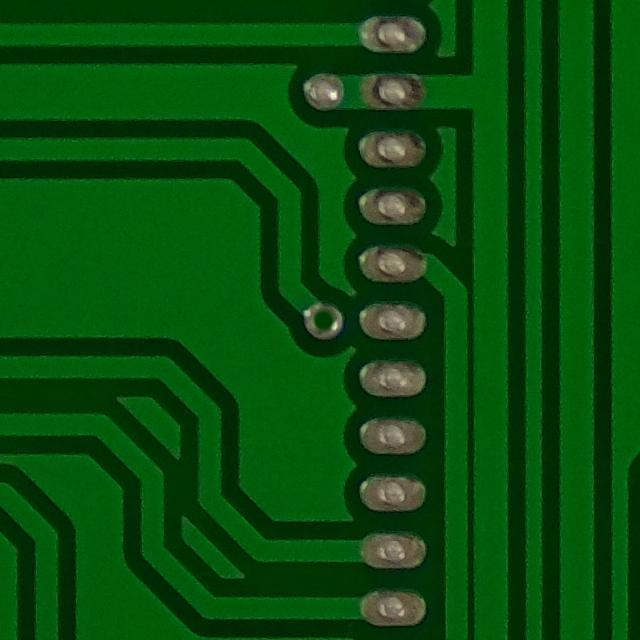missing_hole: (293, 287, 348, 353)
